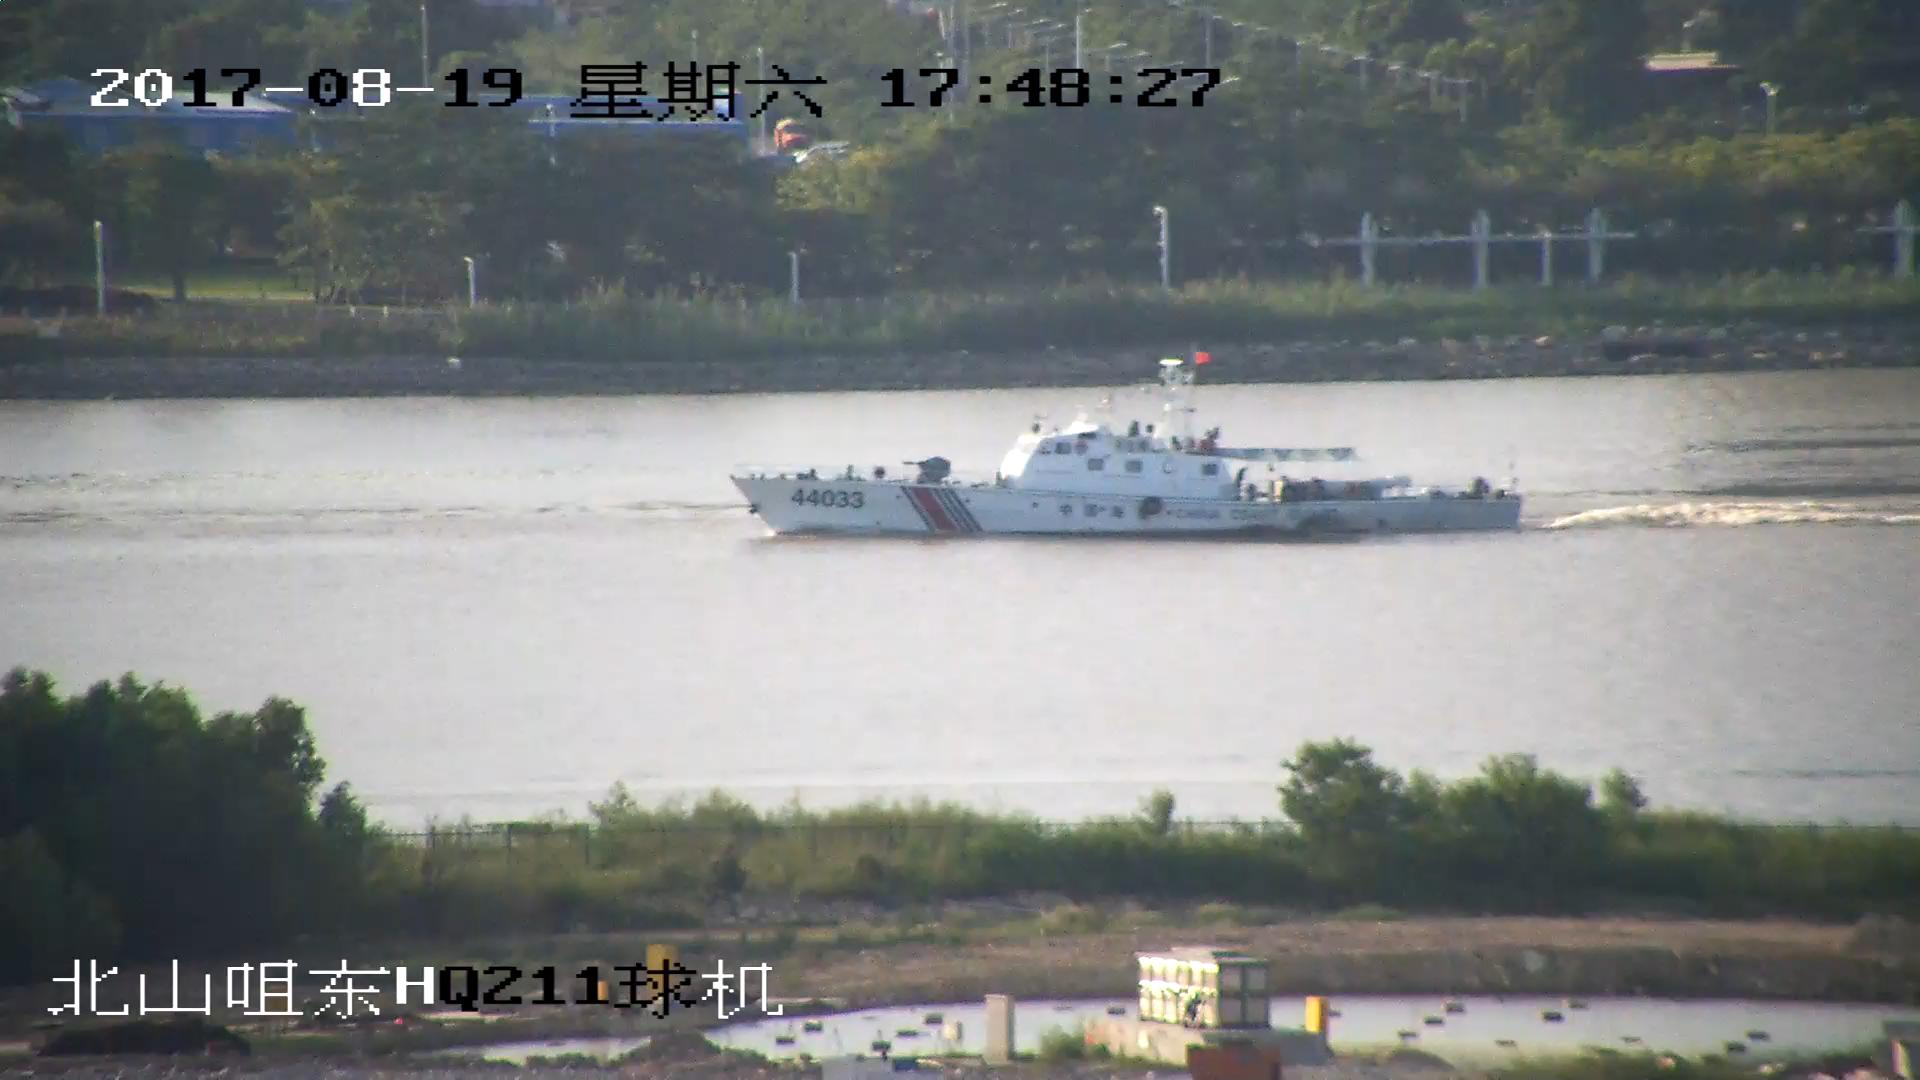passenger ship: (728, 362, 1520, 540)
